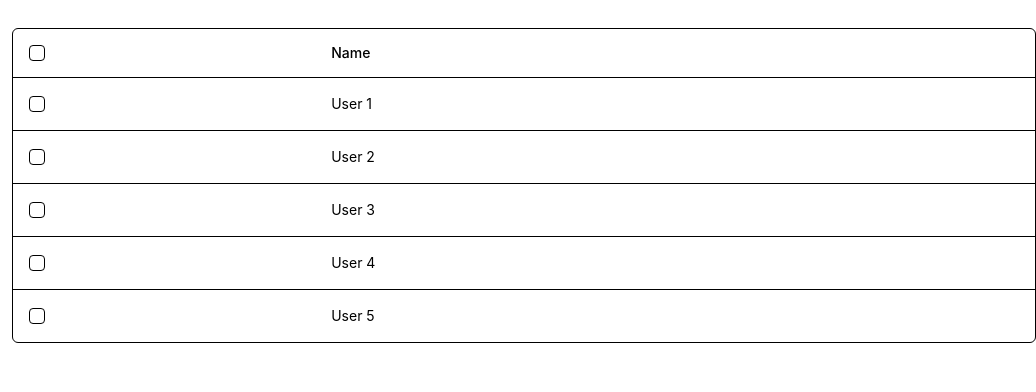
Scenario: TableWidget - Advanced Features › Bulk Actions › shows bulk actions when rows are selected
This screenshot has width=1036, height=392.
Expected: the text "Delete Selected" is not shown
Select a row
Click the checkbox named "Select row" in the row of "User 1" at {"x": 37, "y": 104}, box [29, 96, 45, 112]
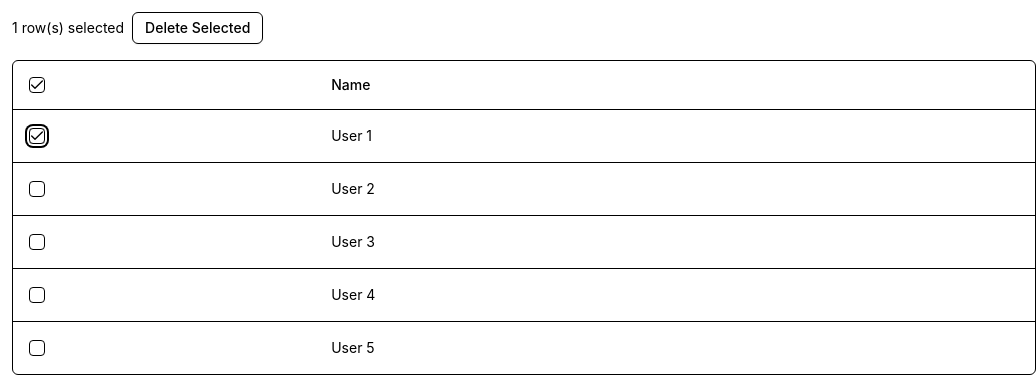
Expected: the button "Delete Selected" is shown, [132, 12, 263, 44]
Expected: the text "1 row(s) selected" is shown, [12, 18, 124, 38]
